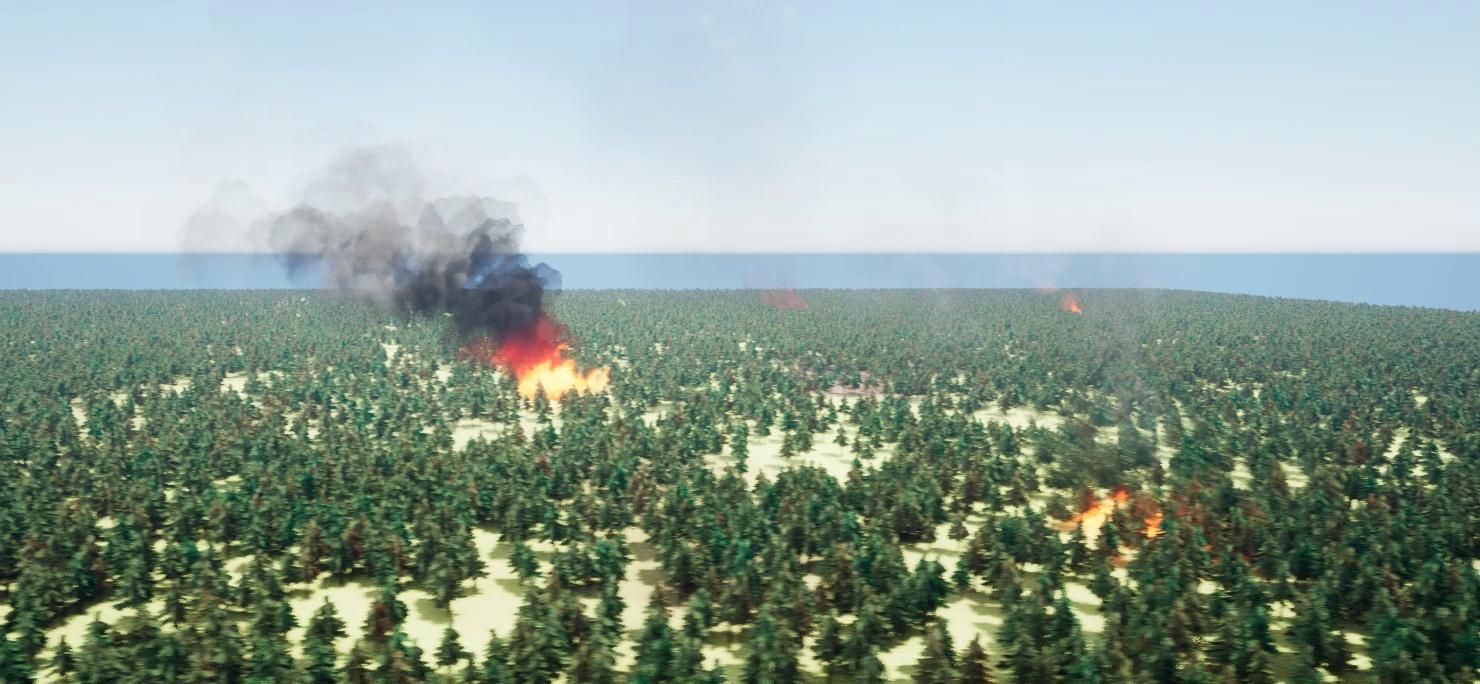fire: (1057, 488, 1216, 551), (484, 347, 609, 400)
smoke: (165, 136, 577, 351), (748, 270, 821, 318), (1036, 268, 1080, 312)
